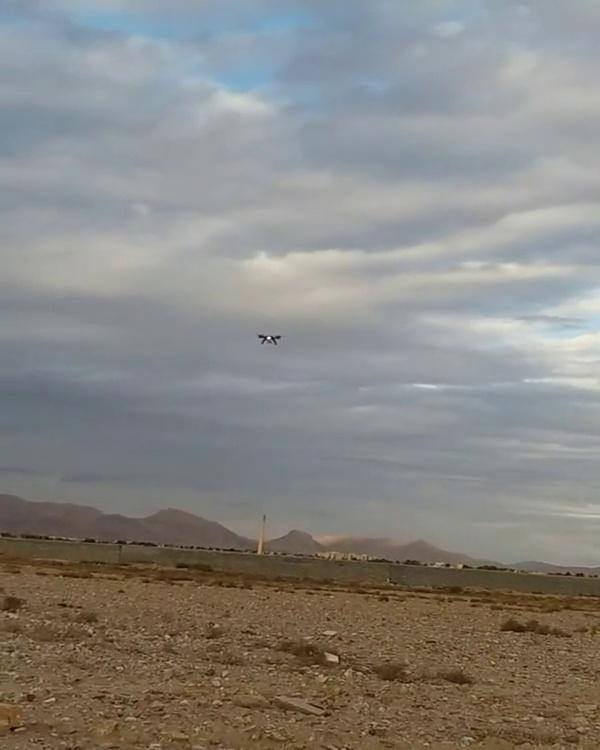drone: (254, 328, 284, 348)
